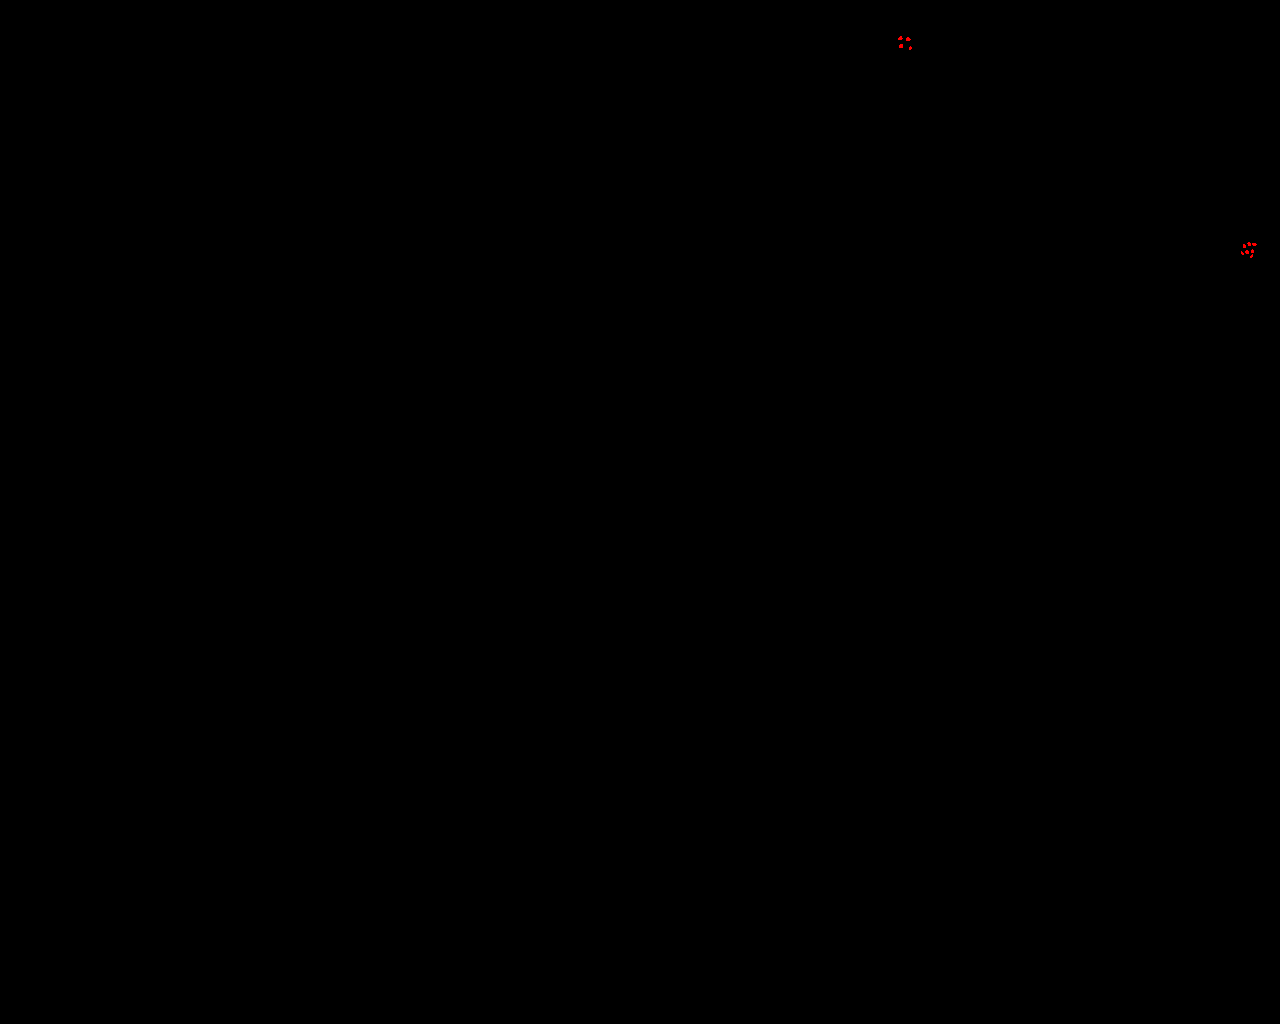Target: (898, 36, 903, 40), (906, 37, 911, 41), (899, 44, 903, 48), (909, 46, 912, 50), (1247, 242, 1251, 246), (1251, 249, 1254, 253), (1246, 250, 1249, 254), (1241, 251, 1244, 255), (1250, 254, 1253, 258), (1252, 243, 1257, 246), (1243, 245, 1246, 248)
